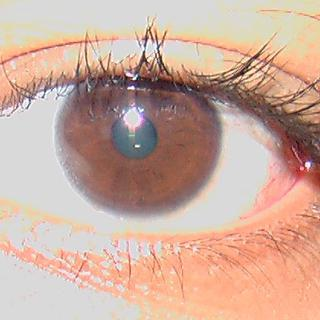pupil: (113, 115, 157, 159)
